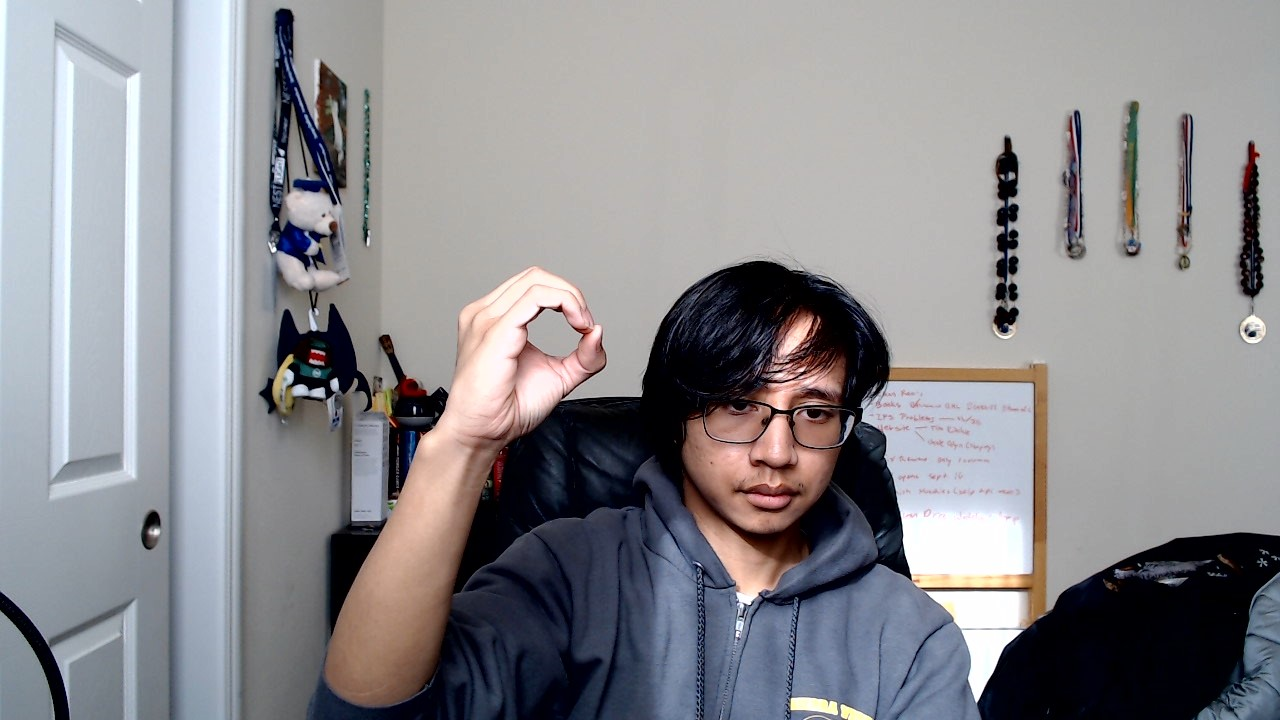o: (415, 264, 608, 449)
